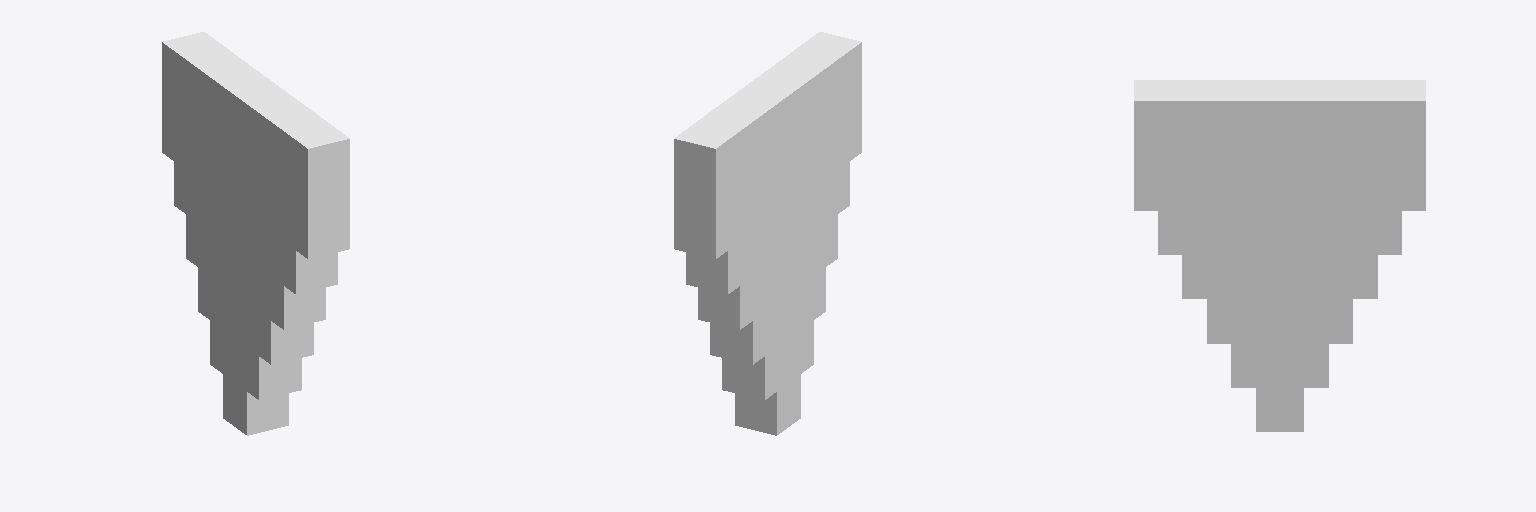
The model's file is arrow_selection0.obj.
3 renders of one model, left to right at view 1: azimuth 30°, elevation 25°; view 2: azimuth 150°, elevation 25°; view 3: azimuth 270°, elevation 25°, orthographic.
Visible parts, largest first — view 1: object 1; view 2: object 1; view 3: object 1.
Boxes of the visible parts, x1,y1,x2,y2 form: object 1: [162, 32, 349, 435]; object 1: [674, 32, 861, 435]; object 1: [1134, 80, 1425, 431].
Bounding box in the file's own units: 0.2 × 1.5 × 1.2.